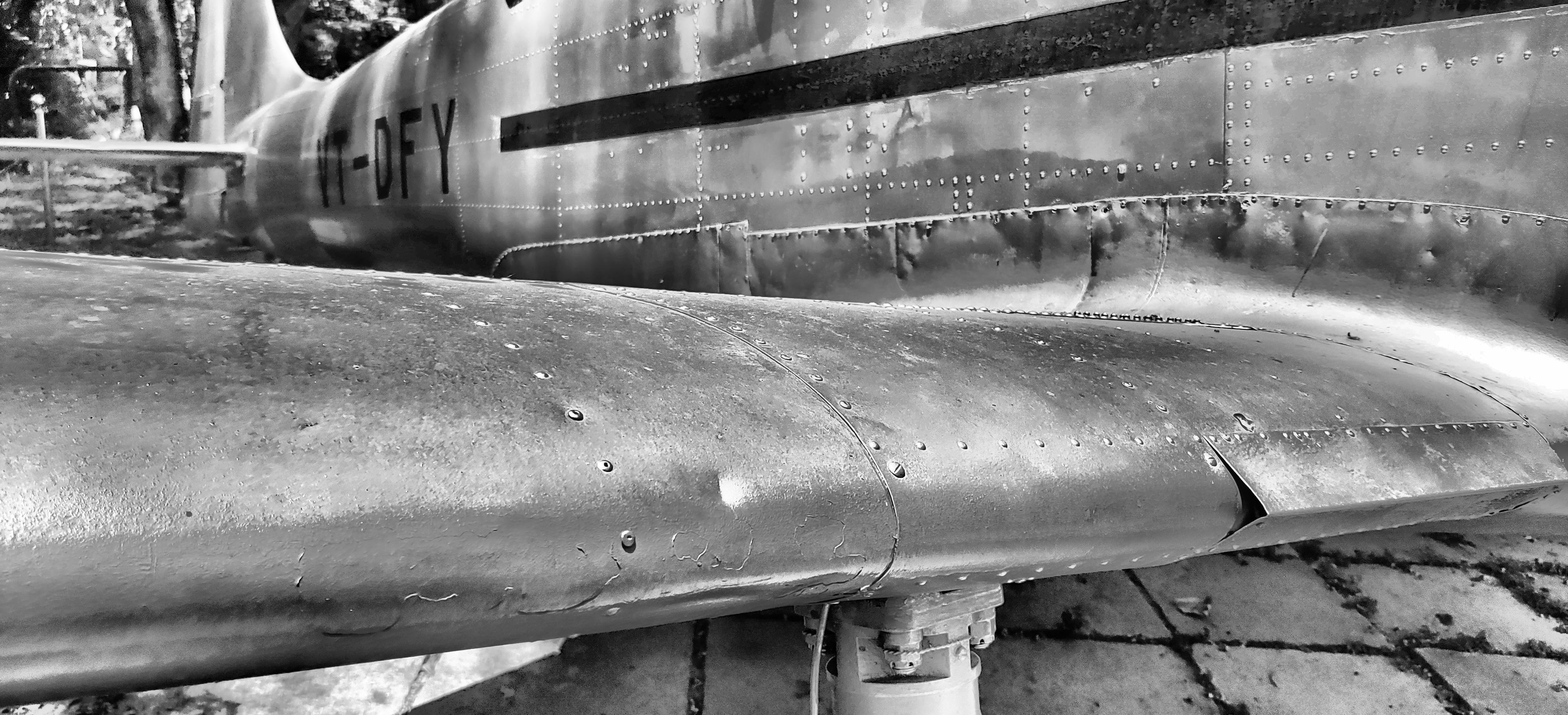dent: (1082, 233, 1101, 298), (744, 248, 767, 297), (713, 477, 729, 504), (904, 250, 918, 271)
missing-head: (1102, 205, 1110, 217)
